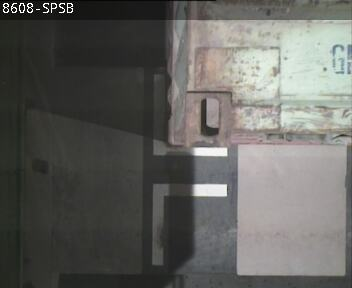groundmarker_1: (152, 73, 226, 266)
